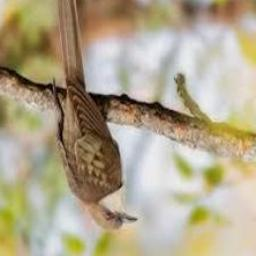Cuckoo: (54, 0, 138, 232)
